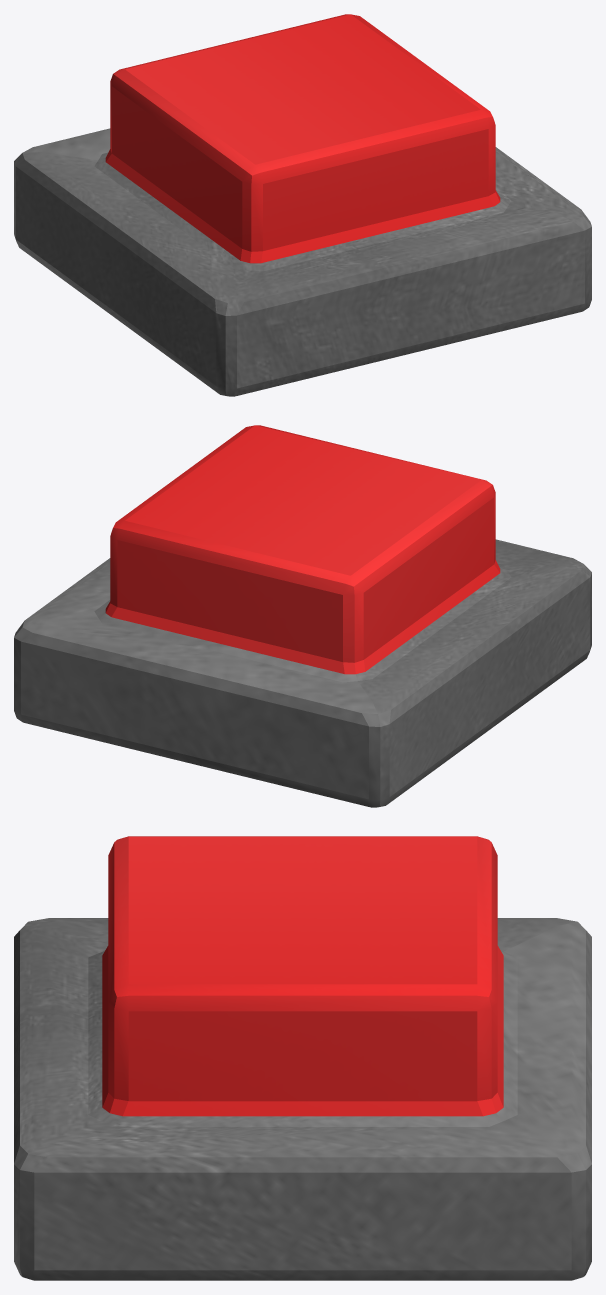
Rendered from boton.fbx.
3 renders of one model, top to bottom at view 1: azimuth 30°, elevation 25°; view 2: azimuth 150°, elevation 25°; view 3: azimuth 270°, elevation 25°, orthographic. The views are drawn at different scales.
Parts seen in each view (by area): view 1: Cube; view 2: Cube; view 3: Cube.
Boxes of the visible parts, x1,y1,x2,y2 form: Cube: (14,14,591,396); Cube: (14,425,591,807); Cube: (14,836,591,1280).
Bounding box in the file's own units: 200 × 97.64 × 200.
1 material, 1 textured.
